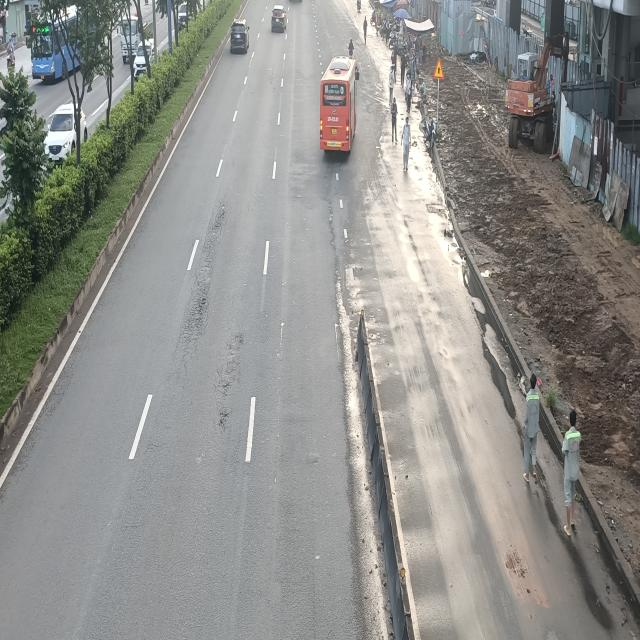car: (230, 18, 250, 54), (271, 4, 288, 32)
coach: (320, 56, 360, 158)
